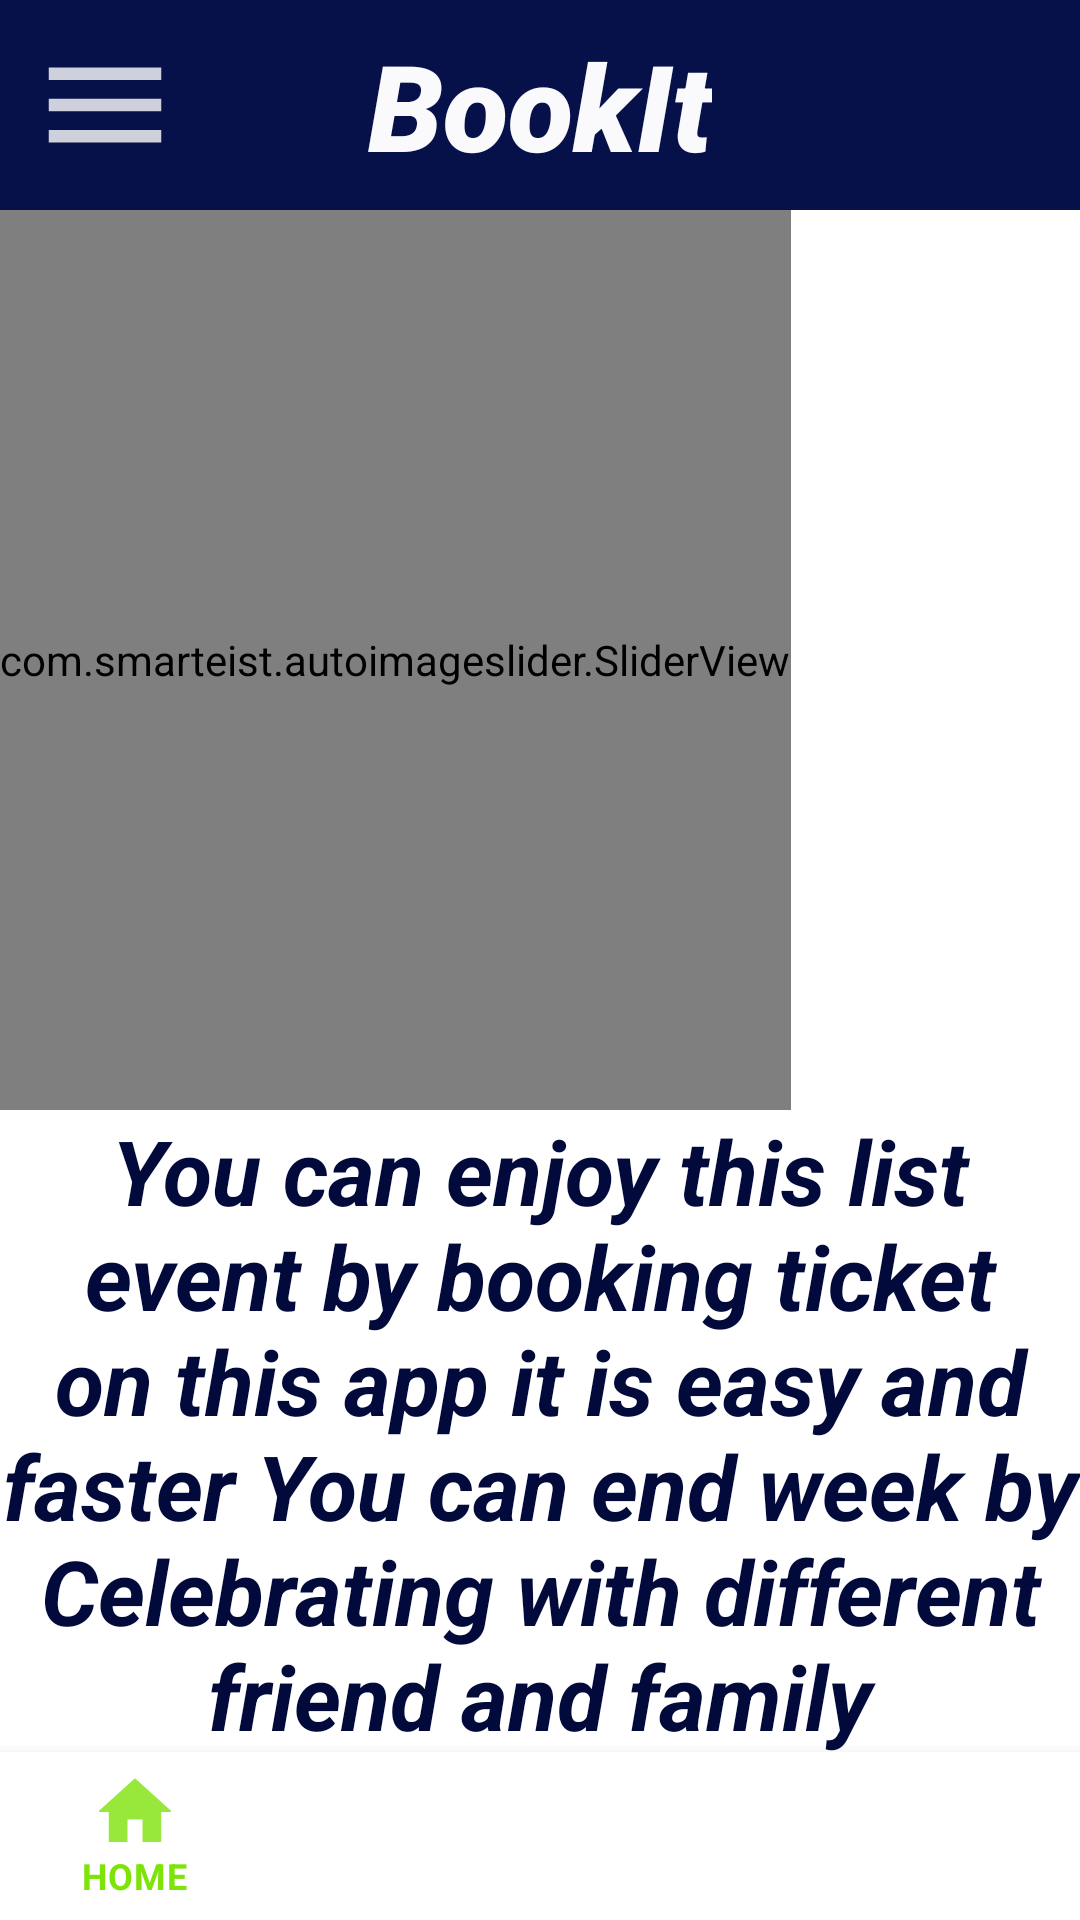

Named icons in this screenshot (1080*1920) and their bounding boxes, {"left": x1, "top": y1, "right": x2, "bottom": y2}:
menu: {"left": 48, "top": 67, "right": 162, "bottom": 143}
